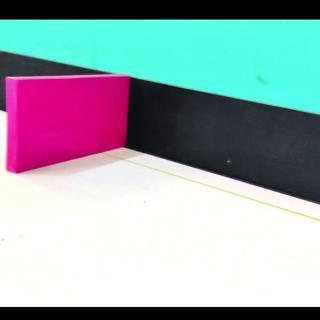xparking: (15, 78, 124, 176)
